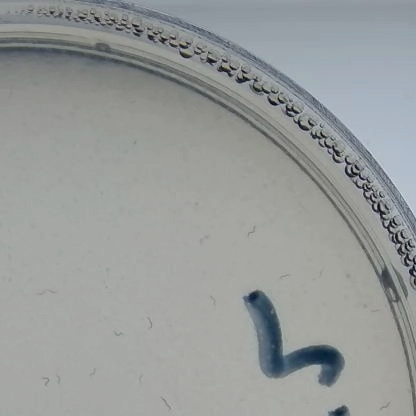worm: (358, 297, 386, 316), (32, 285, 65, 301), (154, 394, 176, 413), (81, 361, 103, 378), (129, 367, 148, 385), (143, 313, 157, 334), (373, 397, 392, 412), (205, 294, 222, 310), (38, 372, 54, 388), (194, 234, 217, 245), (54, 369, 65, 391), (273, 268, 293, 280), (110, 324, 123, 341), (243, 224, 258, 238), (312, 264, 328, 277)
